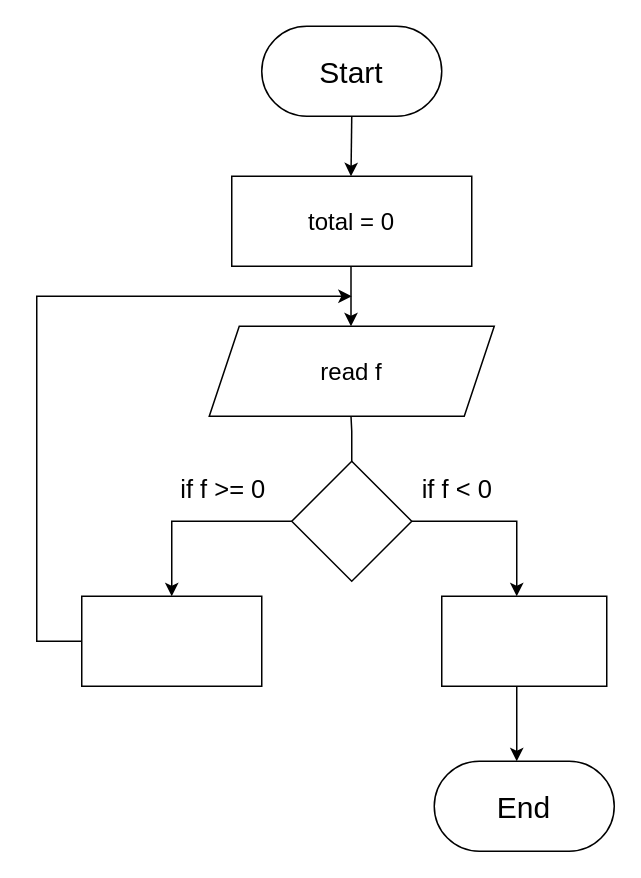
This 641x878 diagram has some shape labels left out. The centre of each missing label's shape, as x and y in pixels:
"print total" belongs at [523,640].
"total = total + f" belongs at [171,640].
